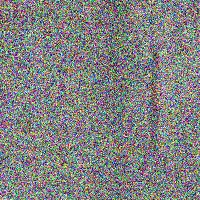inclusion: (144, 34, 172, 155), (20, 104, 54, 164), (30, 12, 54, 48), (92, 38, 108, 76), (27, 175, 50, 199)
